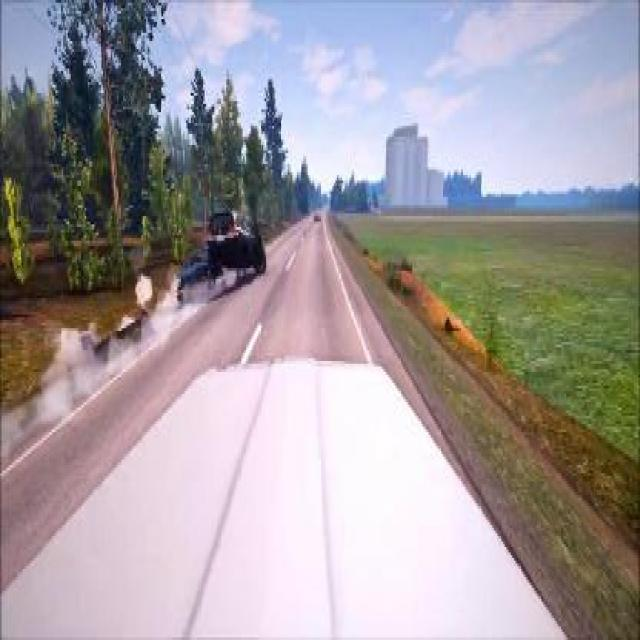accident: (174, 208, 268, 301)
